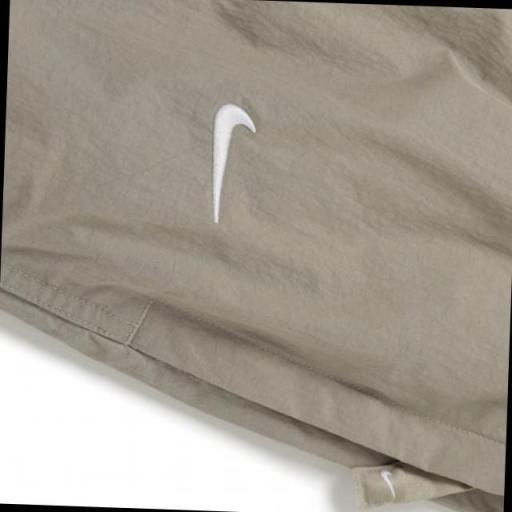Nike: (190, 94, 264, 229)
